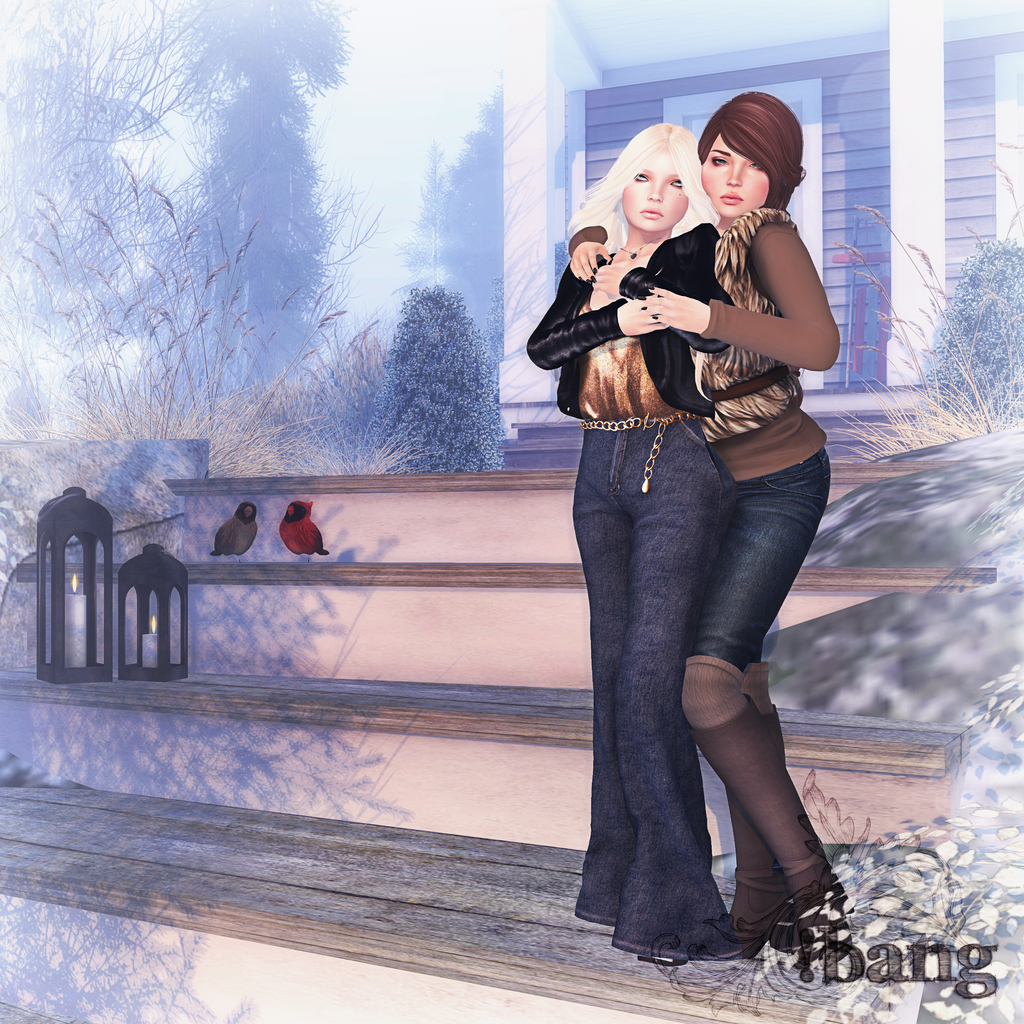Human-face: (620, 147, 686, 233), (700, 135, 767, 218)
